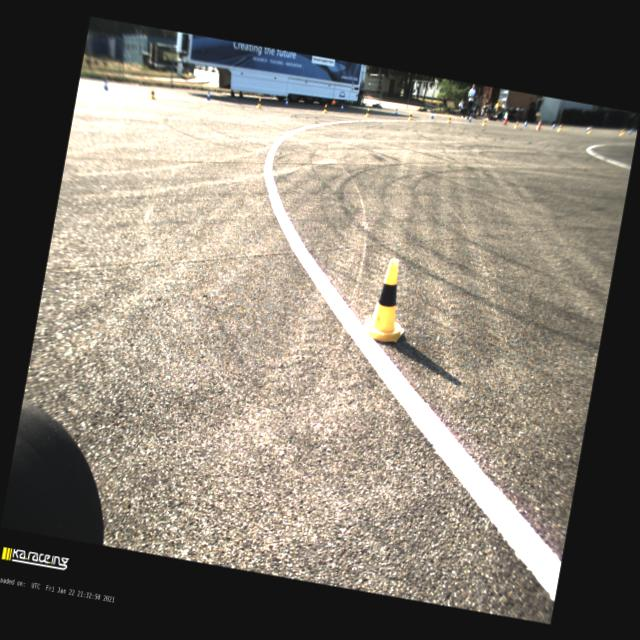blue_cone: (206, 90, 212, 100), (430, 111, 435, 119), (284, 98, 288, 106), (340, 103, 344, 111), (394, 107, 398, 115), (468, 115, 472, 122), (523, 120, 527, 126)
large_orange_cone: (536, 118, 542, 130), (503, 113, 508, 124)
yellow_cone: (360, 256, 416, 346), (150, 88, 156, 100), (256, 97, 262, 108), (364, 107, 370, 117), (322, 104, 328, 114), (446, 114, 452, 123), (513, 120, 518, 128), (408, 111, 412, 120), (482, 118, 486, 126)
